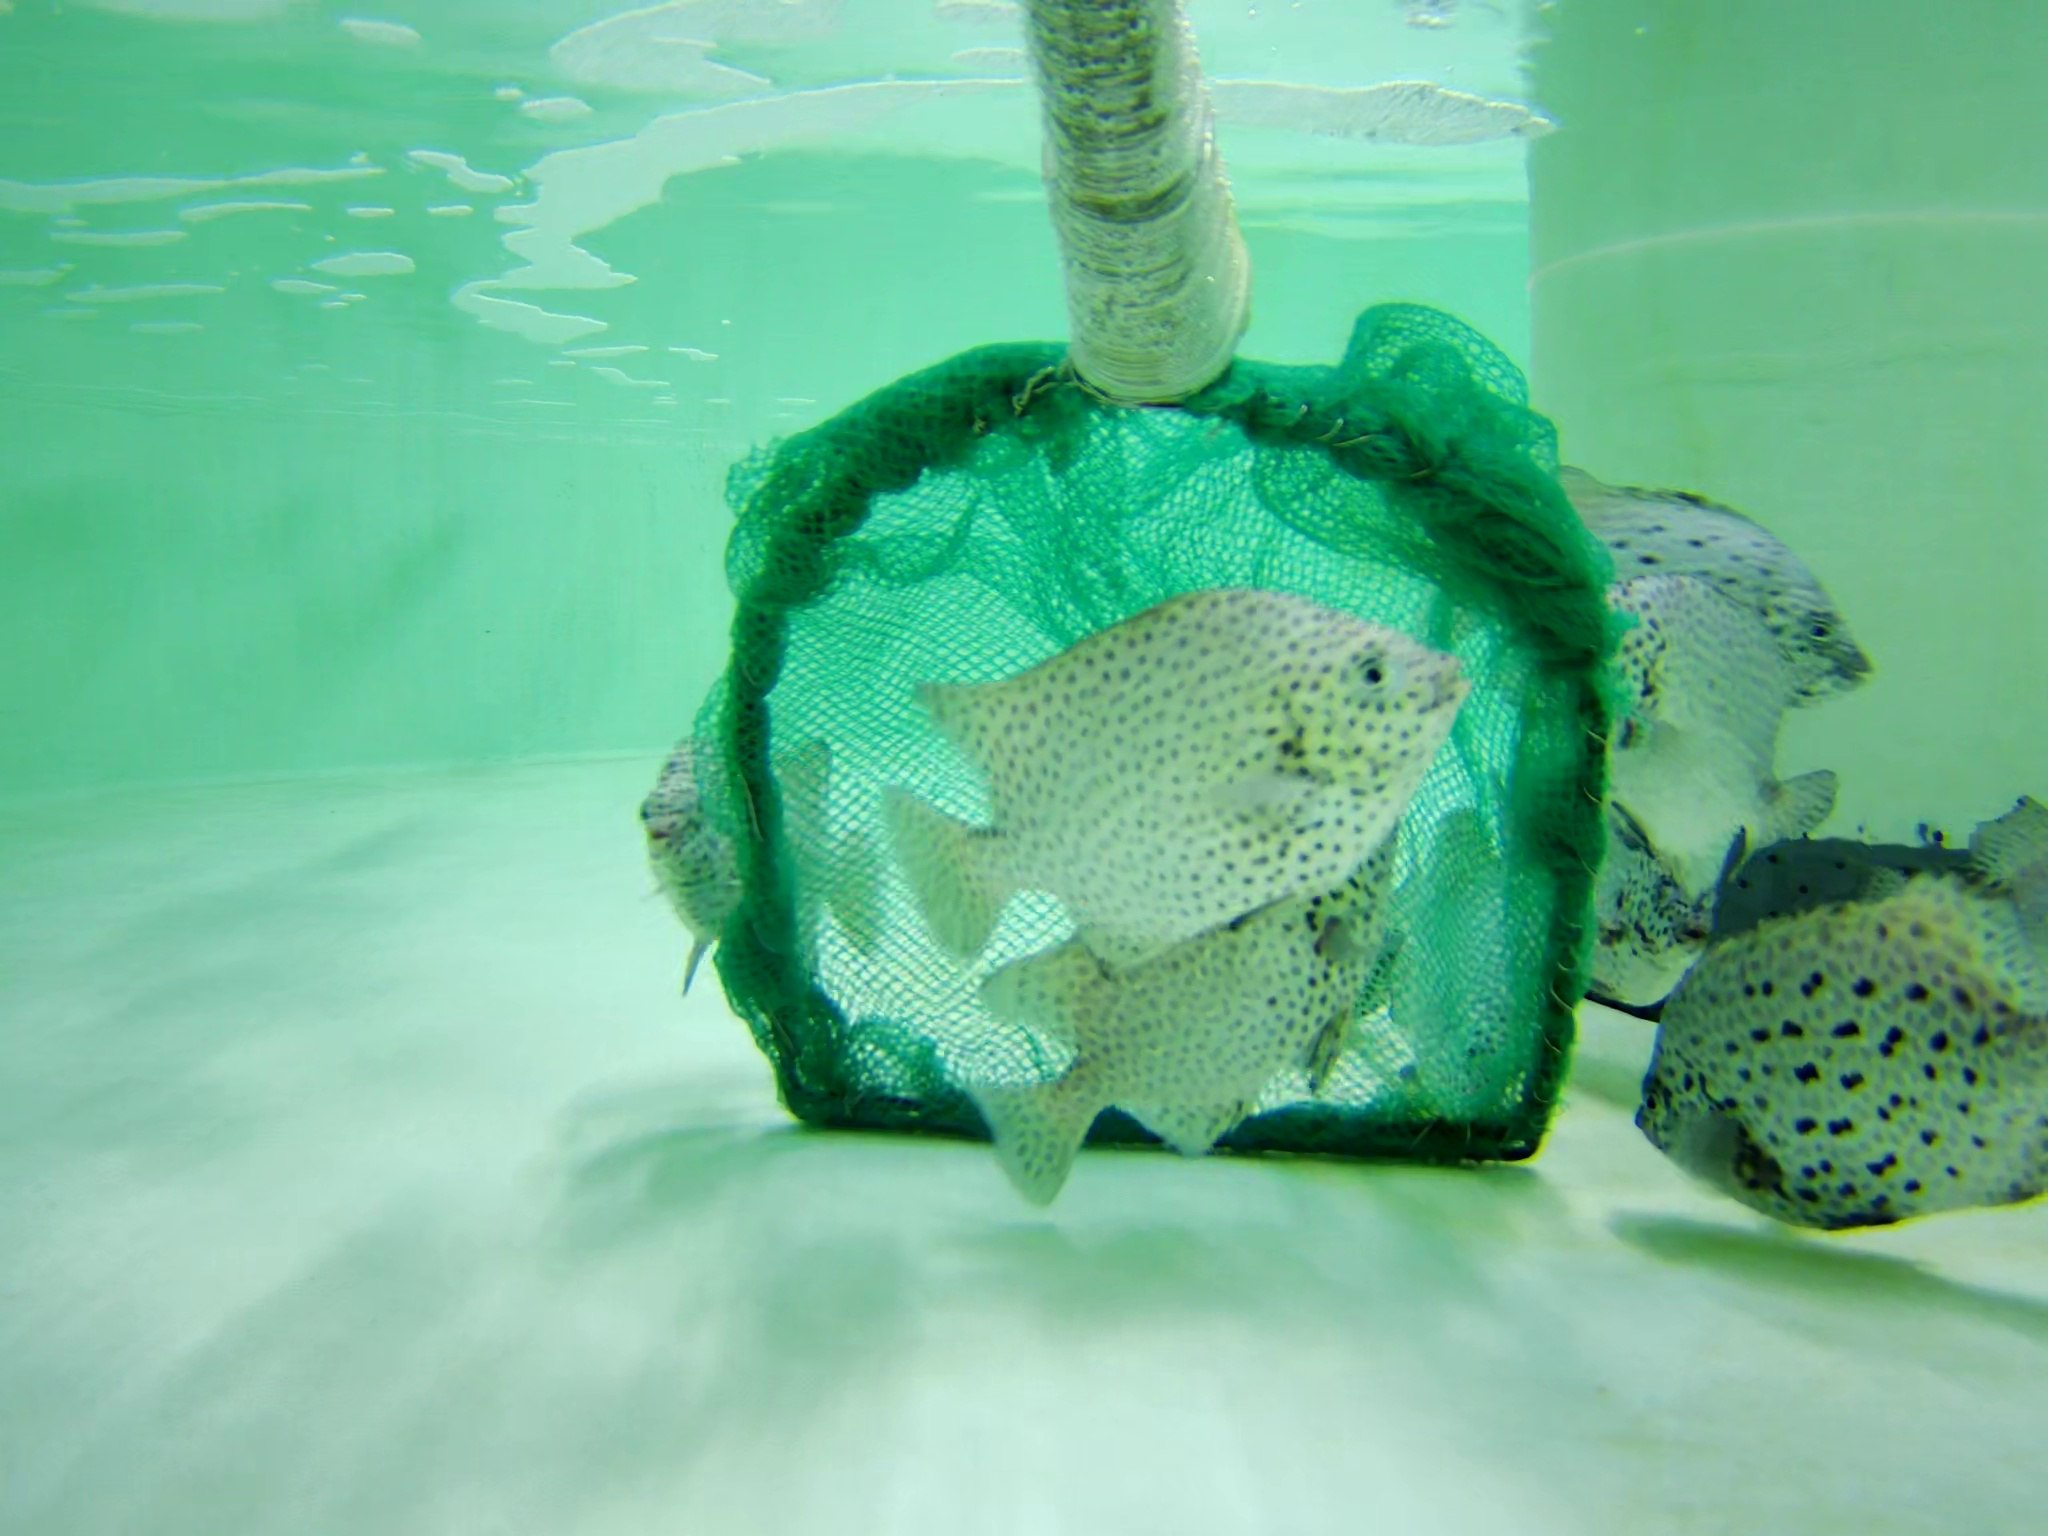fish: (851, 600, 1482, 942), (1637, 878, 2048, 1231), (932, 878, 1406, 1183), (1506, 449, 1875, 710), (1561, 578, 1837, 850), (618, 695, 889, 970), (1711, 797, 2048, 987), (1363, 802, 1526, 1123), (1590, 816, 1706, 994)
